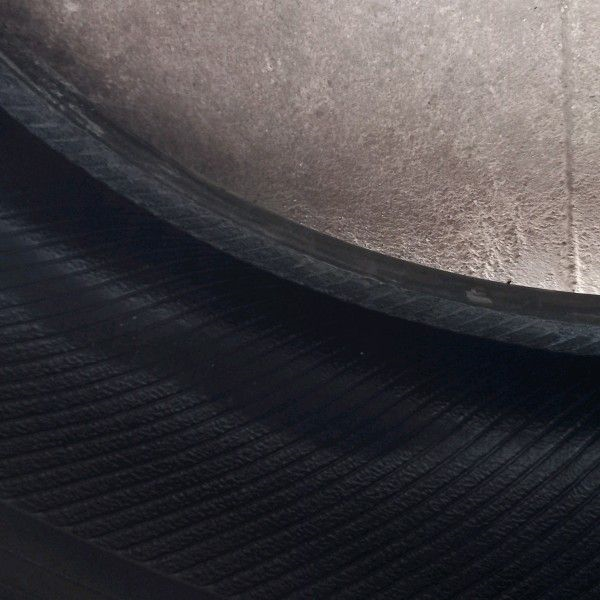CBU: (4, 226, 466, 460)
